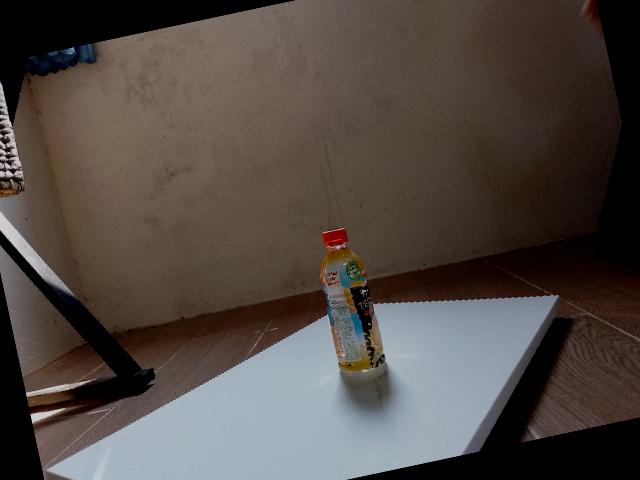teppy_orange_juice: (319, 228, 387, 379)
